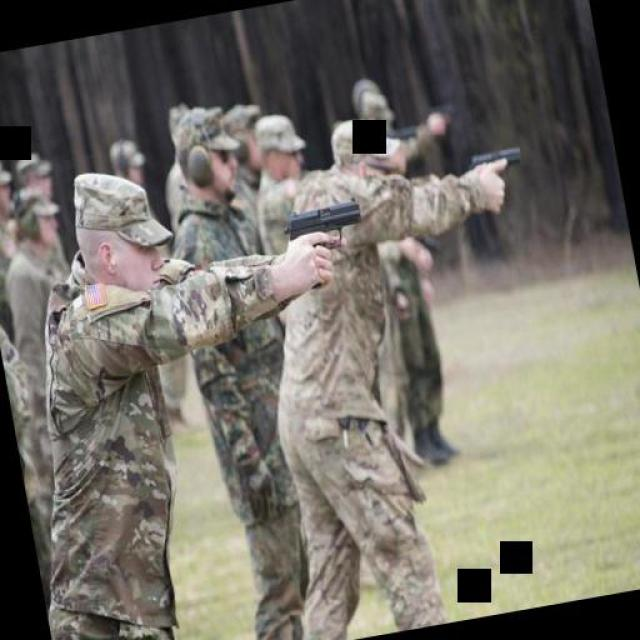gun: (270, 188, 371, 272), (461, 138, 525, 188)
